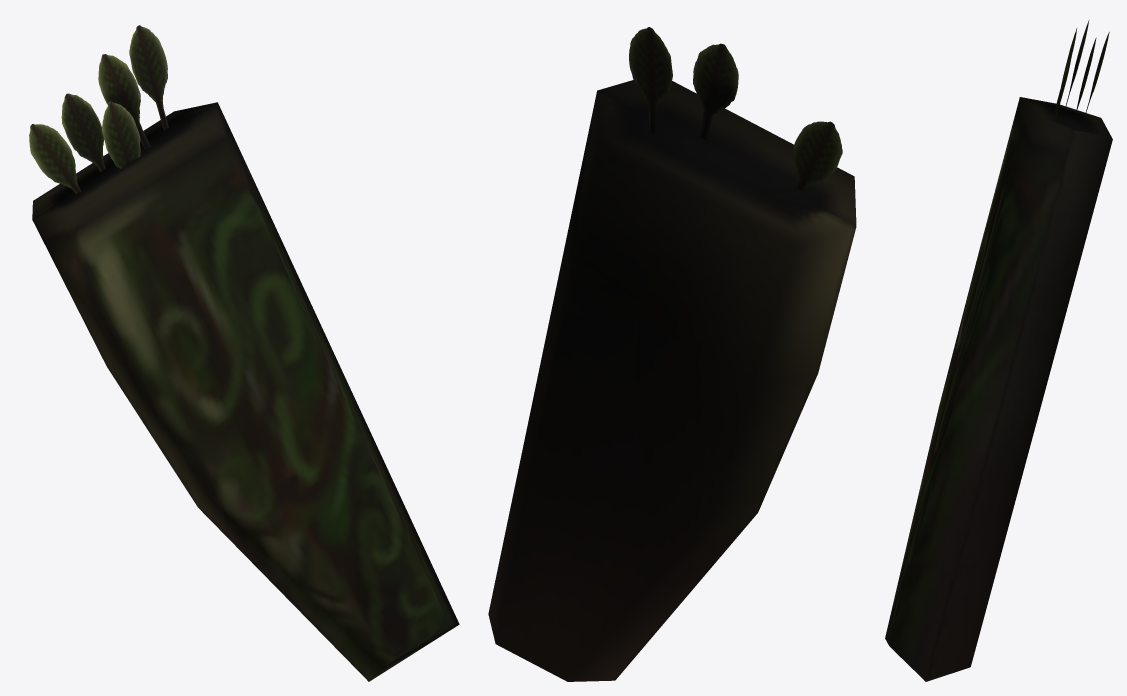
The model's file is quiver 1.fbx.
The picture shows the model from 3 angles, left to right: view 1: azimuth 30°, elevation 25°; view 2: azimuth 150°, elevation 25°; view 3: azimuth 270°, elevation 25°; orthographic projection. The views are drawn at different scales.
Visible parts, largest first — view 1: Quiver1; view 2: Quiver1; view 3: Quiver1.
Part boxes in pixels (x1,y1,x2,y2): Quiver1: [29, 25, 459, 681]; Quiver1: [488, 27, 856, 681]; Quiver1: [885, 20, 1112, 681].
Bounding box in the file's own units: 0.5832 × 0.944 × 0.3344.
